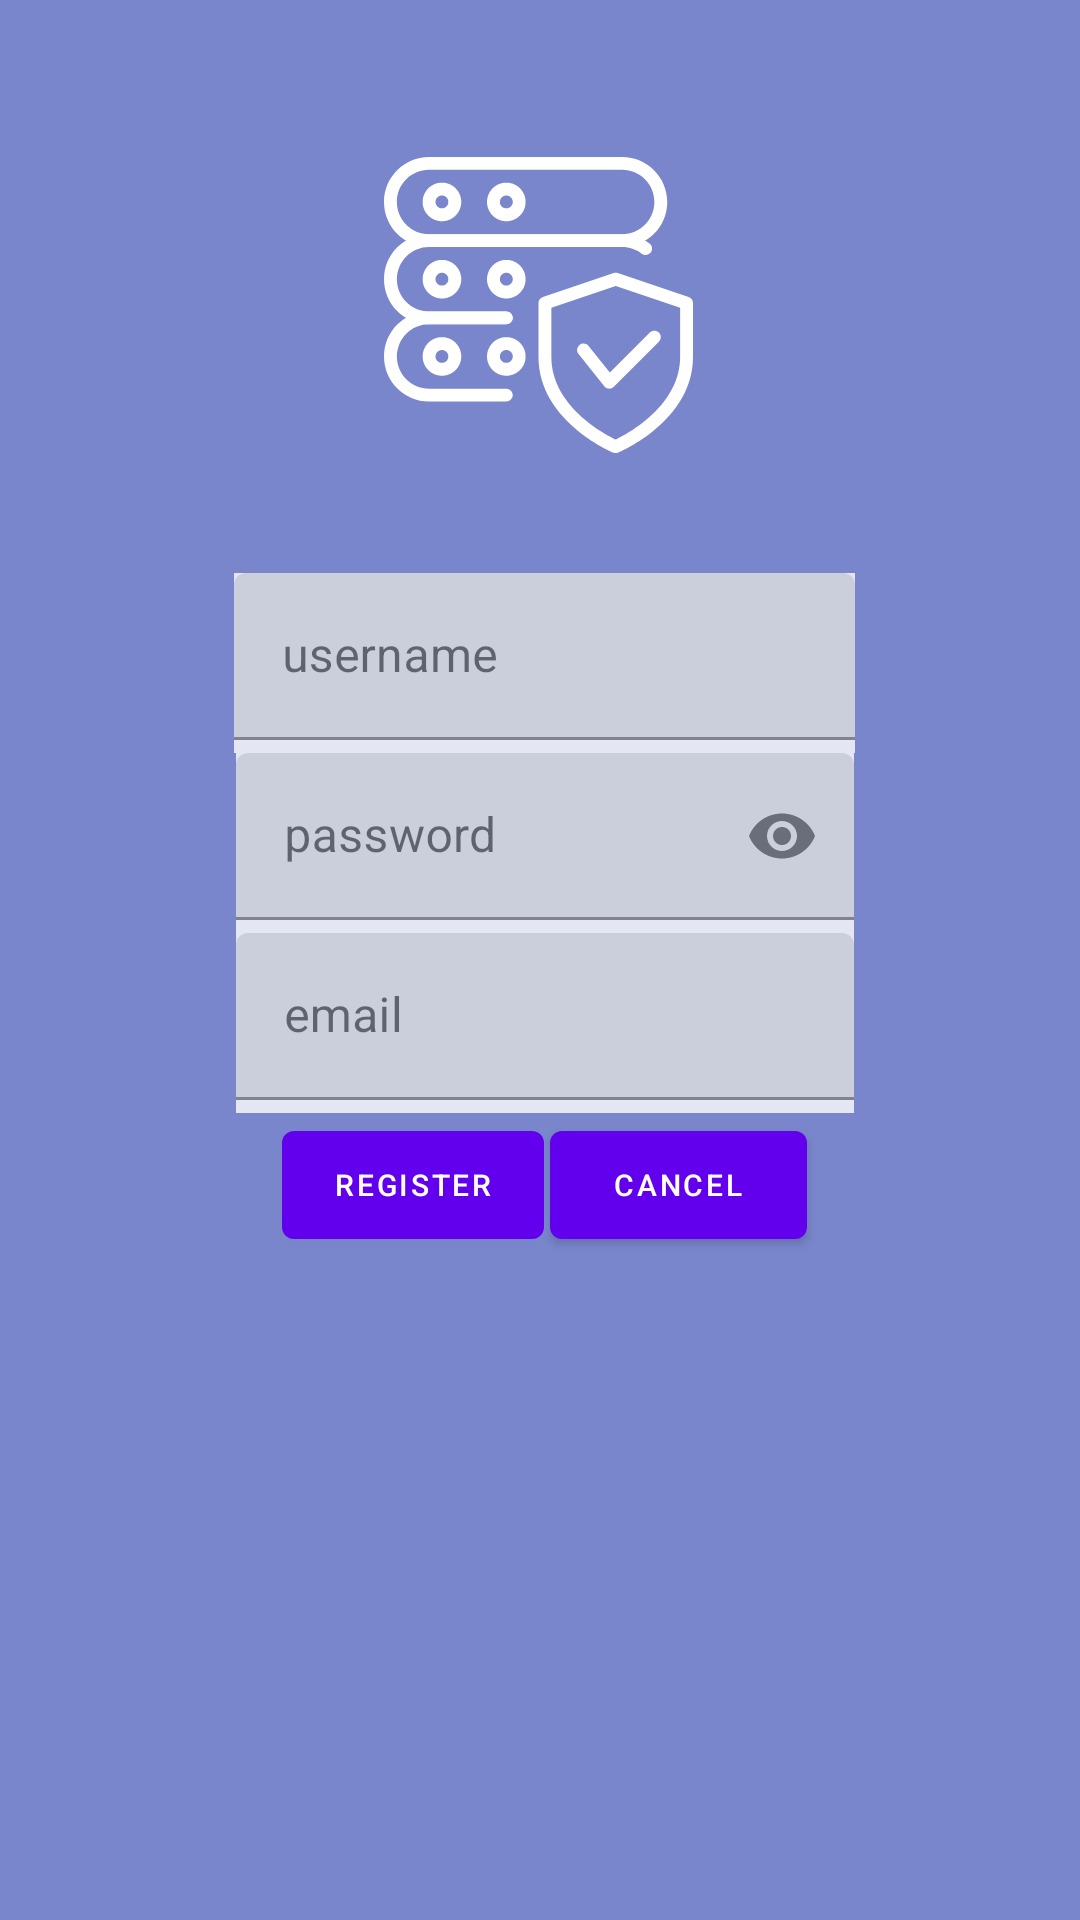

Screen size 1080w x 1920h. Icon name, then its center in pixels as (x,y):
seguro: (538,305)
